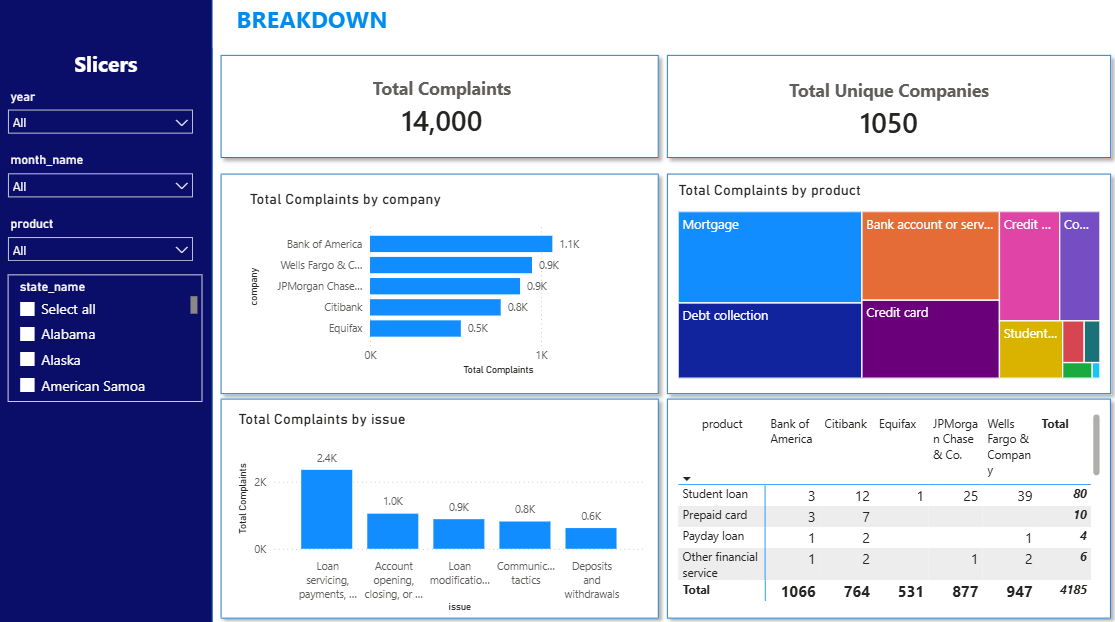

The dashboard page shown, as its layout file describes it:
{"tool":"powerbi","page":{"name":"Breakdown","canvas":[1280,720],"ordinal":2},"visuals":[{"type":"shape","box":[244.3,57.1,518.6,135.7],"z":0,"group":"g1"},{"type":"shape","box":[754.3,57.1,525.7,135.7],"z":1000,"group":"g1"},{"type":"shape","box":[754.3,192.9,525.7,270],"z":2000,"group":"g1"},{"type":"shape","box":[244.3,192.9,518.6,270],"z":3000,"group":"g1"},{"type":"shape","box":[754.7,450.7,525.3,269.3],"z":4000,"group":"g1"},{"type":"shape","box":[244,450.7,518.7,269.3],"z":5000,"group":"g1"},{"type":"shape","box":[0,0,244,721.3],"z":6000,"group":"g1"},{"type":"group","id":"g1","title":"Background","box":[0,0,1280,721.3],"z":6500},{"type":"textbox","box":[244.3,1.3,1036,56],"z":7000},{"type":"clusteredBarChart","fields":{"Category":["public dim_company.company"],"Y":["_Measures.Total Complaints (Received)"]},"box":[281.4,220,448,217.3],"z":8000},{"type":"treemap","fields":{"Group":["public dim_product.product"],"Values":["_Measures.Total Complaints (Received)"]},"box":[772,209.3,492,230.7],"z":9000},{"type":"columnChart","fields":{"Category":["public dim_issue.issue"],"Y":["_Measures.Total Complaints (Received)"]},"box":[268,472,474.7,236],"z":10000},{"type":"cardVisual","fields":{"Data":["_Measures.Total Complaints (Received)"]},"box":[278.6,74.3,455.7,102.9],"z":11000},{"type":"cardVisual","fields":{"Data":["_Measures.Total Unique Companies"]},"box":[808.6,78.6,417.1,98.6],"z":12000},{"type":"pivotTable","fields":{"Rows":["public dim_product.product"],"Columns":["public dim_company.company"],"Values":["_Measures.Total Complaints (Received)"]},"box":[772,472,492,224],"z":13000},{"type":"textbox","box":[0,56,244,50.7],"z":14000},{"type":"slicer","fields":{"Values":["public dim_state.state_name"]},"box":[9.3,317.3,222.7,145.3],"z":15000},{"type":"slicer","fields":{"Values":["public dim_date.year"]},"box":[0,100,231.2,72.5],"z":16000},{"type":"slicer","fields":{"Values":["public dim_date.month_name"]},"box":[0,172.5,231.2,72.5],"z":17000},{"type":"slicer","fields":{"Values":["public dim_product.product"]},"box":[0,245,231.2,72.5],"z":18000}]}

Visuals, with their boxes in screenshot pixels (x1, y1, x2, y2), scaled from the page's 1280x720 canvas onto the 1115x622 screenshot:
shape: locate(213, 49, 665, 167)
shape: locate(657, 49, 1114, 167)
shape: locate(657, 167, 1114, 400)
shape: locate(213, 167, 665, 400)
shape: locate(657, 389, 1114, 621)
shape: locate(213, 389, 664, 621)
shape: locate(0, 0, 213, 621)
"Background" group: locate(0, 0, 1114, 621)
textbox: locate(213, 1, 1114, 50)
clusteredBarChart - public dim_company.company x _Measures.Total Complaints (Received): locate(245, 190, 635, 378)
treemap - public dim_product.product x _Measures.Total Complaints (Received): locate(672, 181, 1101, 380)
columnChart - public dim_issue.issue x _Measures.Total Complaints (Received): locate(233, 408, 647, 612)
cardVisual - _Measures.Total Complaints (Received): locate(243, 64, 640, 153)
cardVisual - _Measures.Total Unique Companies: locate(704, 68, 1068, 153)
pivotTable - public dim_product.product x public dim_company.company: locate(672, 408, 1101, 601)
textbox: locate(0, 48, 213, 92)
slicer - public dim_state.state_name: locate(8, 274, 202, 400)
slicer - public dim_date.year: locate(0, 86, 201, 149)
slicer - public dim_date.month_name: locate(0, 149, 201, 212)
slicer - public dim_product.product: locate(0, 212, 201, 274)
